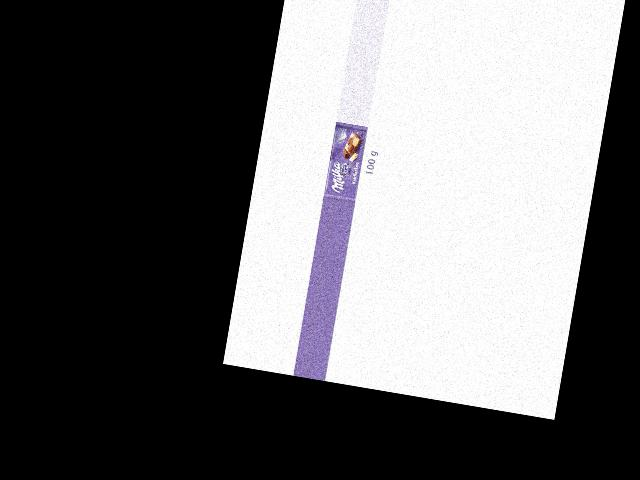chocolate: (323, 121, 369, 203)
